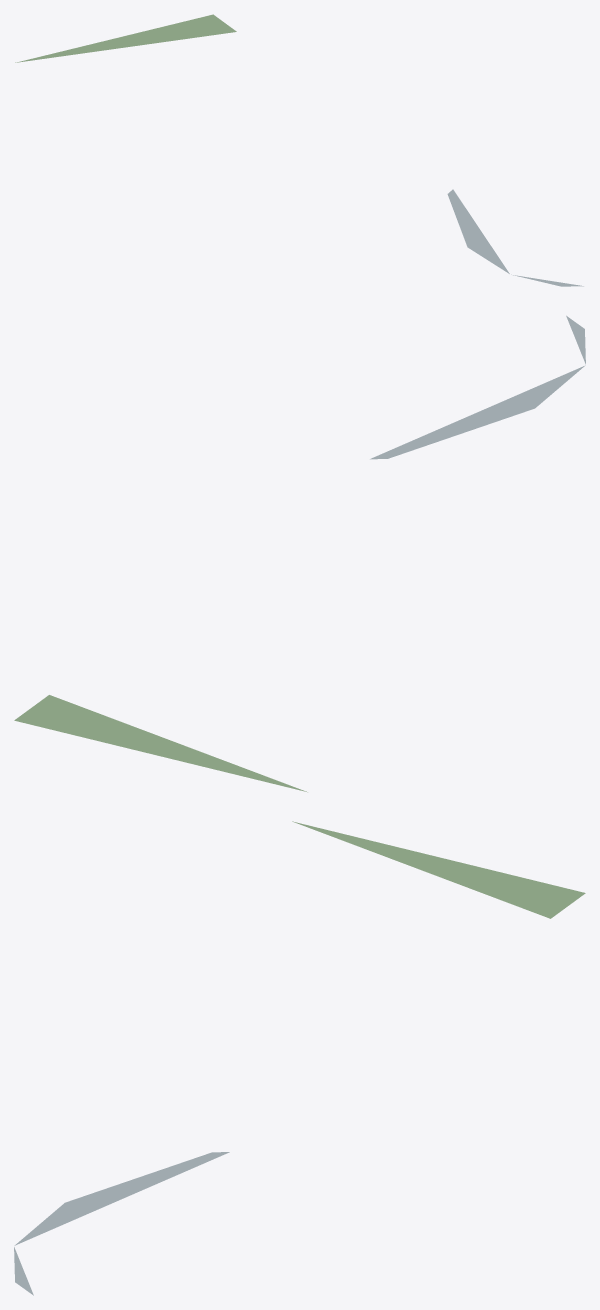
File: 111_118_mid.glb
The picture shows the model from 3 angles, top to bottom: view 1: azimuth 30°, elevation 25°; view 2: azimuth 150°, elevation 25°; view 3: azimuth 330°, elevation 25°; orthographic projection. The views are drawn at different scales.
Bounding box in the file's own units: 131 × 0.5111 × 424.
